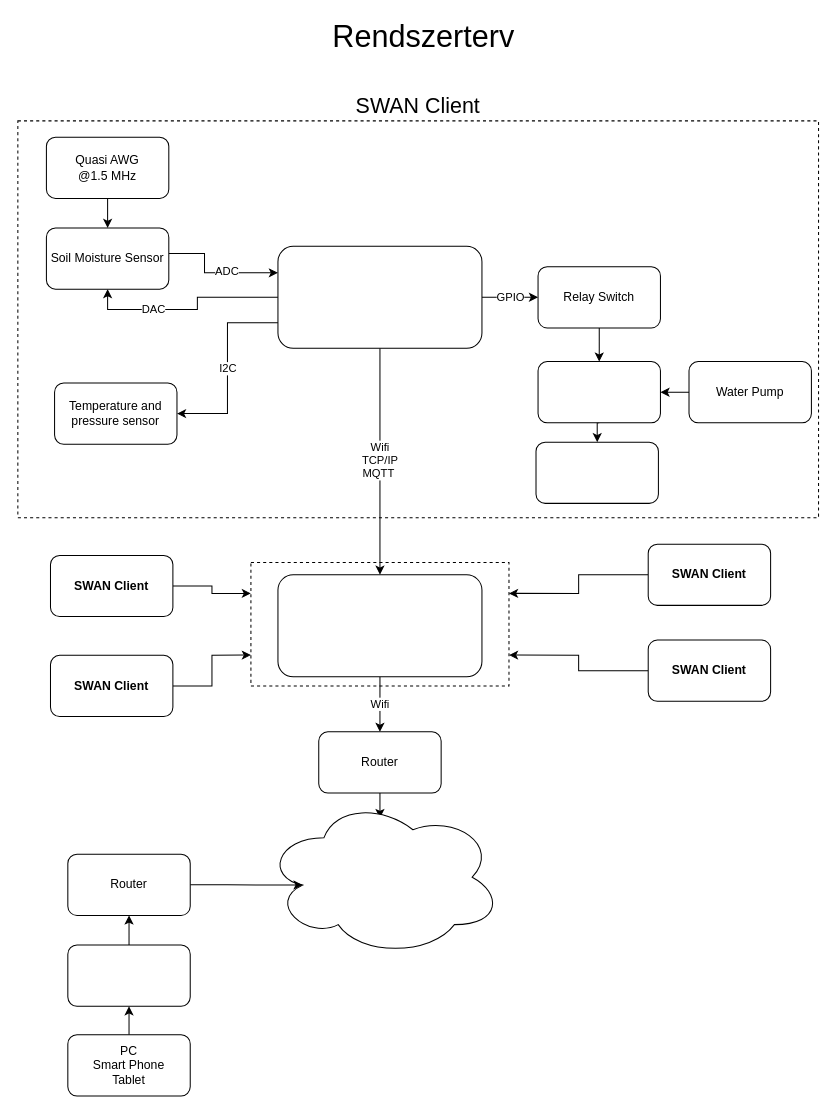
The diagram is 836 pixels wide and 1114 high, and some of its shapes have lost their labels. The shapes that lost their labels are listed below. From the top down, each one's box as (x1, y1, x2, y2) in pixels, then its label:
(277, 245, 482, 348): ESP32 WROOM
(537, 361, 660, 423): Solenoid Valve
(535, 441, 658, 503): Irrigation System
(250, 562, 509, 686): SWAN Server
(277, 574, 482, 677): RPI Zero W
(264, 797, 502, 956): Internet
(67, 944, 190, 1006): Web Browser
